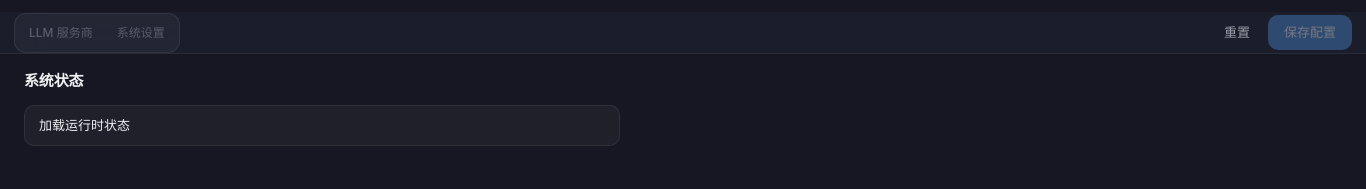
Scenario: SettingsView — E2E 关键路径 › keeps showing the error after collapse and reopen because statusError prevents auto-retry
Click the button with class "hc-status__trigger".
click(85, 124)  # box [24, 104, 620, 146]
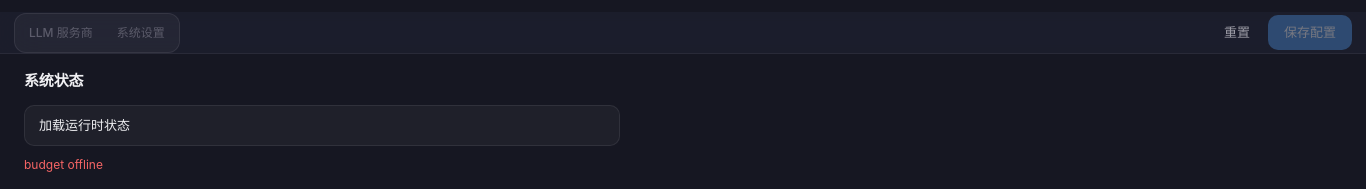
Check: the text "budget offline" is shown, box [24, 157, 103, 172]
Click the button with class "hc-status__trigger".
click(85, 124)  # box [24, 104, 620, 146]
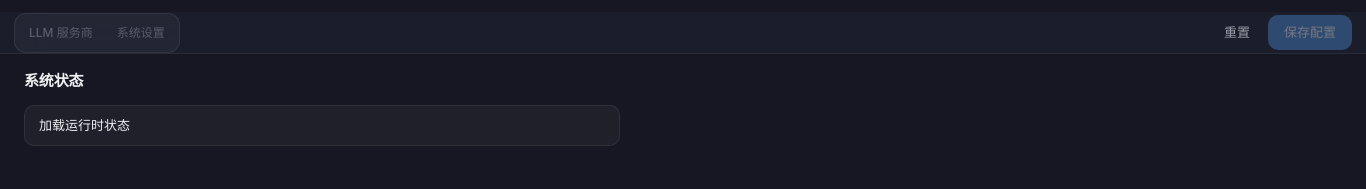
Click the button with class "hc-status__trigger".
click(85, 124)  # box [24, 104, 620, 146]
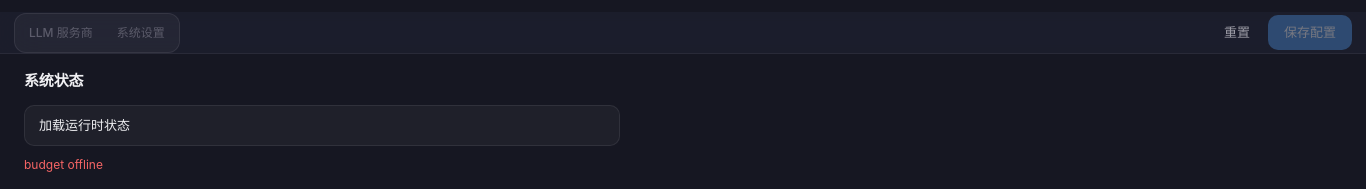
Check: the text "budget offline" is shown, box [24, 157, 103, 172]
